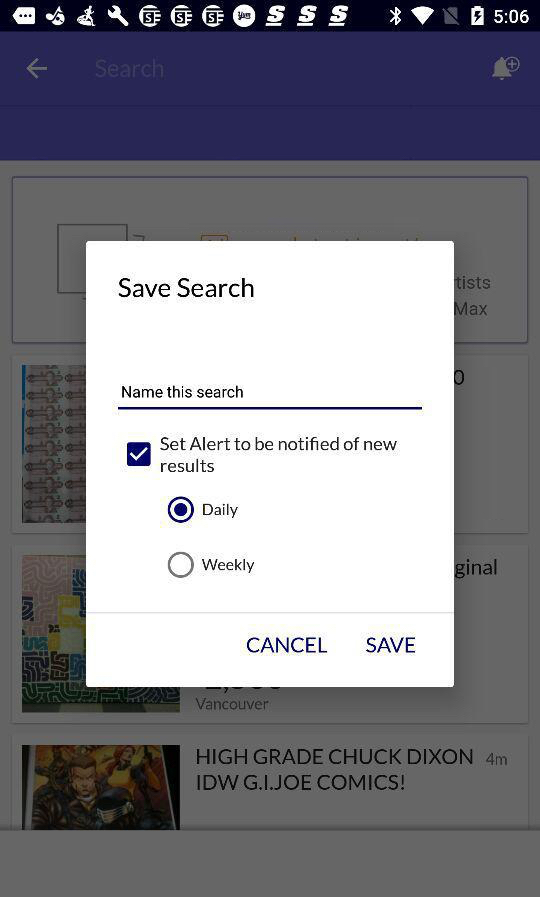CheckedTextView: (168, 495, 195, 524), (168, 551, 195, 579), (127, 441, 153, 467)
EditText: (118, 385, 422, 411)
Icon: (491, 56, 521, 82), (26, 58, 49, 80)
Image: (23, 745, 181, 830)
Modal: (86, 241, 455, 688)
Text: (196, 748, 472, 791), (160, 436, 398, 474), (118, 276, 256, 300), (122, 385, 244, 399), (247, 636, 328, 654), (96, 59, 165, 80), (366, 636, 417, 654), (202, 559, 256, 574), (203, 503, 239, 519), (487, 753, 508, 766)
UpperTaskBar: (1, 1, 540, 33)
